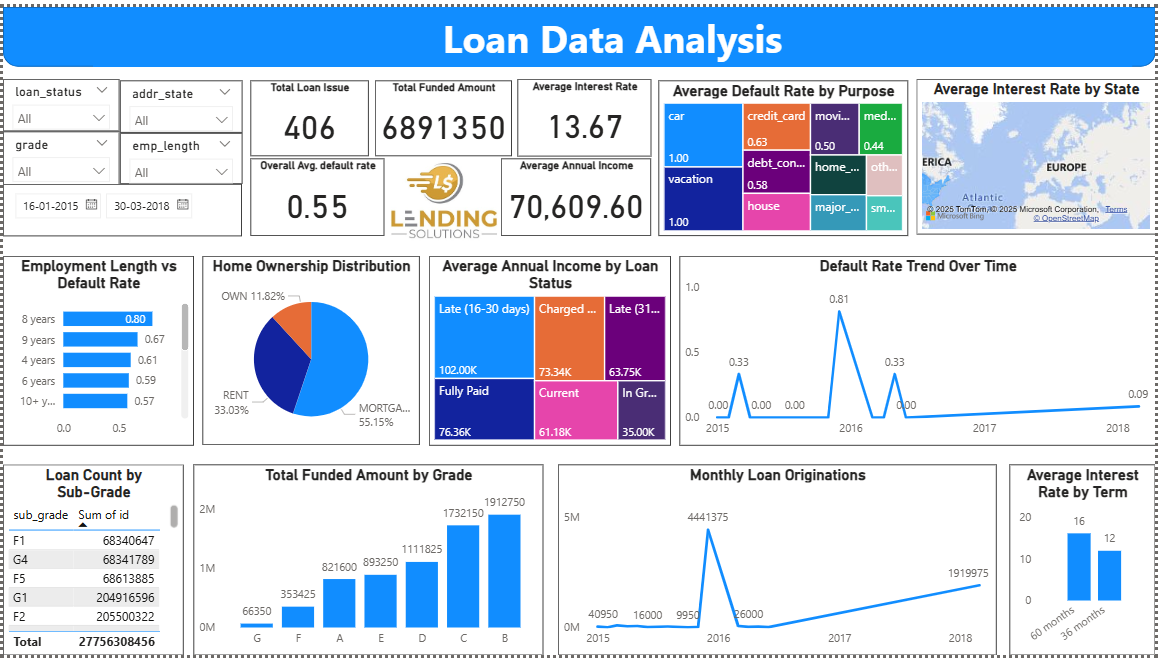

The dashboard page shown, as its layout file describes it:
{"tool":"powerbi","page":{"name":"Loan Data Analysis","canvas":[1280,720],"ordinal":0},"visuals":[{"type":"clusteredColumnChart","title":"Total Funded Amount by Grade","fields":{"Category":["loan_dataset.grade"],"Y":["Sum(loan_dataset.funded_amnt)"]},"box":[212.1,508.4,388.6,212.1],"z":0},{"type":"tableEx","title":"Loan Count by Sub-Grade","fields":{"Values":["loan_dataset.sub_grade","Sum(loan_dataset.id)"]},"box":[0,508.4,200.8,212.1],"z":1000},{"type":"clusteredColumnChart","title":"Average Interest Rate by Term","fields":{"Category":["loan_dataset.term"],"Y":["Avg(loan_dataset.int_rate)"]},"box":[1118.9,508.4,161.9,212.1],"z":2000},{"type":"treemap","title":"Average Default Rate by Purpose","fields":{"Group":["loan_dataset.purpose"],"Values":["Avg(loan_dataset.is_default)"]},"box":[728.6,81.4,277.1,172.9],"z":3000},{"type":"lineChart","title":"Monthly Loan Originations","fields":{"Y":["Sum(loan_dataset.funded_amnt)"],"Category":["loan_dataset.issue_d.Variation.Date Hierarchy.Year","loan_dataset.issue_d.Variation.Date Hierarchy.Month"]},"box":[616.9,507.9,487.4,212.1],"z":4000},{"type":"lineChart","title":"Default Rate Trend Over Time","fields":{"Category":["loan_dataset.issue_d.Variation.Date Hierarchy.Year","loan_dataset.issue_d.Variation.Date Hierarchy.Month"],"Y":["Avg(loan_dataset.is_default)"]},"box":[751.3,276.9,529.5,210.5],"z":5000},{"type":"treemap","title":"Average Annual Income by Loan Status","fields":{"Group":["loan_dataset.loan_status"],"Values":["Avg(loan_dataset.annual_inc)"]},"box":[472.8,276.9,268.8,210.5],"z":6000},{"type":"clusteredBarChart","title":"Employment Length vs Default Rate","fields":{"Category":["loan_dataset.emp_length"],"Y":["Avg(loan_dataset.is_default)"]},"box":[0,276.9,212.1,210.5],"z":7000},{"type":"pieChart","title":"Home Ownership Distribution","fields":{"Y":["Sum(loan_dataset.id)"],"Category":["loan_dataset.home_ownership"]},"box":[221.4,277.1,241.4,210],"z":8000},{"type":"filledMap","title":"Average Interest Rate by State","fields":{"Category":["loan_dataset.addr_state"]},"box":[1015.7,80,265.7,172.9],"z":9000},{"type":"slicer","fields":{"Values":["loan_dataset.loan_status"]},"box":[0,80.2,129.5,58.3],"z":10000},{"type":"slicer","fields":{"Values":["loan_dataset.grade"]},"box":[0,138.5,129.5,63.1],"z":11000},{"type":"slicer","fields":{"Values":["loan_dataset.issue_d"]},"box":[0,195.9,265.6,58.3],"z":12000},{"type":"slicer","fields":{"Values":["loan_dataset.addr_state"]},"box":[129.5,81.5,136,58.3],"z":13000},{"type":"slicer","fields":{"Values":["loan_dataset.emp_length"]},"box":[129.5,139.3,136,56.7],"z":14000},{"type":"card","title":"Total Loan Issue","fields":{"Values":["CountNonNull(loan_dataset.loan_amnt)"]},"box":[275.3,81.5,131.2,84.2],"z":15000},{"type":"card","title":"Total Funded Amount","fields":{"Values":["Sum(loan_dataset.loan_amnt)"]},"box":[412.9,81.5,152.2,84.2],"z":16000},{"type":"card","title":"Average Interest Rate","fields":{"Values":["Avg(loan_dataset.int_rate)"]},"box":[571.6,79.9,149,85.8],"z":17000},{"type":"card","title":"Overall Avg. default rate","fields":{"Values":["Avg(loan_dataset.is_default)"]},"box":[275.3,168.4,149,85.8],"z":18000},{"type":"card","title":"Average Annual Income","fields":{"Values":["Avg(loan_dataset.annual_inc)"]},"box":[553.8,168.4,166.8,85.8],"z":19000},{"type":"shape","box":[0,0,1280.8,66.4],"z":20000},{"type":"textbox","box":[100.4,0,1154.5,66.4],"z":21000},{"type":"image","box":[424.2,153.8,129.5,123.1],"z":22000}]}

Visuals, with their boxes in screenshot pixels (x1, y1, x2, y2), scaled from the page's 1280x720 canvas onto the 1161x662 screenshot:
"Total Funded Amount by Grade" clusteredColumnChart: <bbox>192, 467, 545, 661</bbox>
"Loan Count by Sub-Grade" tableEx: <bbox>0, 467, 182, 661</bbox>
"Average Interest Rate by Term" clusteredColumnChart: <bbox>1015, 467, 1160, 661</bbox>
"Average Default Rate by Purpose" treemap: <bbox>661, 75, 912, 234</bbox>
"Monthly Loan Originations" lineChart: <bbox>560, 467, 1002, 661</bbox>
"Default Rate Trend Over Time" lineChart: <bbox>681, 255, 1160, 448</bbox>
"Average Annual Income by Loan Status" treemap: <bbox>429, 255, 673, 448</bbox>
"Employment Length vs Default Rate" clusteredBarChart: <bbox>0, 255, 192, 448</bbox>
"Home Ownership Distribution" pieChart: <bbox>201, 255, 420, 448</bbox>
"Average Interest Rate by State" filledMap: <bbox>921, 74, 1160, 233</bbox>
slicer - loan_dataset.loan_status: <bbox>0, 74, 117, 127</bbox>
slicer - loan_dataset.grade: <bbox>0, 127, 117, 185</bbox>
slicer - loan_dataset.issue_d: <bbox>0, 180, 241, 234</bbox>
slicer - loan_dataset.addr_state: <bbox>117, 75, 241, 129</bbox>
slicer - loan_dataset.emp_length: <bbox>117, 128, 241, 180</bbox>
"Total Loan Issue" card: <bbox>250, 75, 369, 152</bbox>
"Total Funded Amount" card: <bbox>375, 75, 513, 152</bbox>
"Average Interest Rate" card: <bbox>518, 73, 654, 152</bbox>
"Overall Avg. default rate" card: <bbox>250, 155, 385, 234</bbox>
"Average Annual Income" card: <bbox>502, 155, 654, 234</bbox>
shape: <bbox>0, 0, 1160, 61</bbox>
textbox: <bbox>91, 0, 1138, 61</bbox>
image: <bbox>385, 141, 502, 255</bbox>
